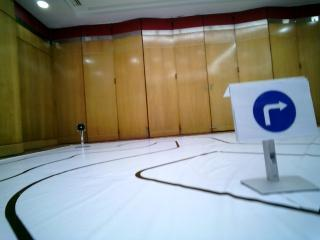right: (230, 84, 314, 134)
